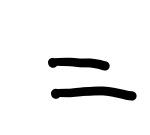eqv: (49, 57, 138, 101)
